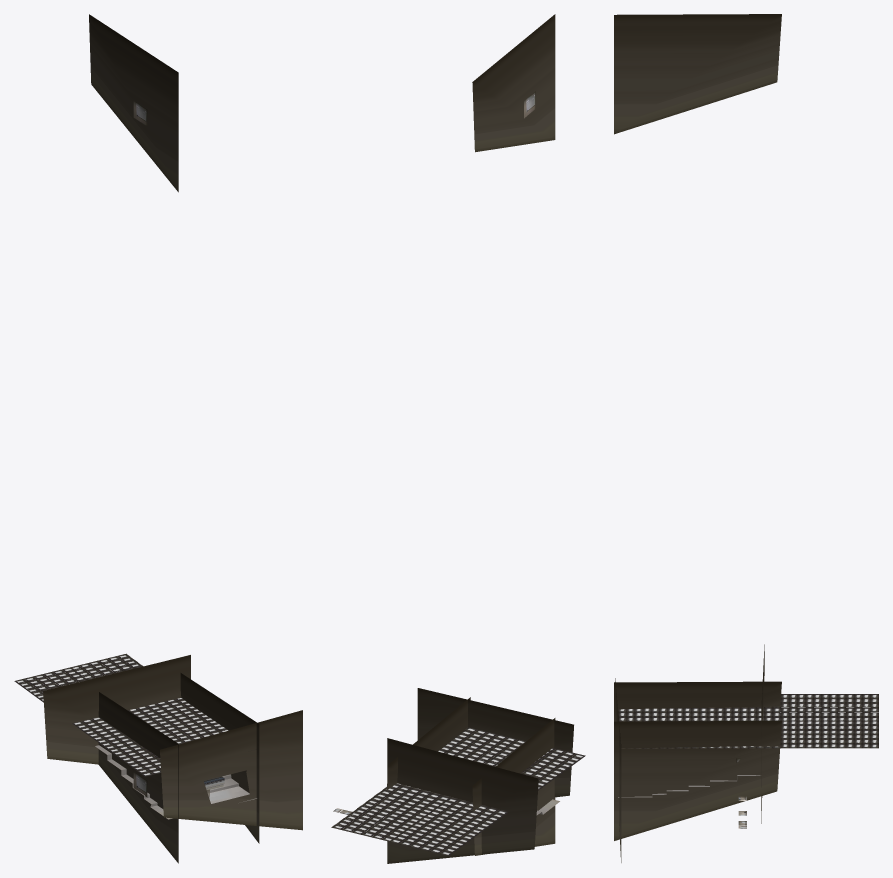
The model's file is home.glb.
The picture shows the model from 3 angles, left to right: view 1: azimuth 30°, elevation 25°; view 2: azimuth 150°, elevation 25°; view 3: azimuth 270°, elevation 25°; orthographic projection. The views are drawn at different scales.
Visible parts, largest first — view 1: 20260413_161915.008, 20260413_161915.006, 20260413_161915.007, 20260413_161936, 20260413_161915.005, 20260413_161915.004, 20260413_163344; view 2: 20260413_161936, 20260413_161915.007, 20260413_161915.006, 20260413_161915.008, 20260413_161915.005, 20260413_161915.004; view 3: 20260413_161915.006, 20260413_161915.004, 20260413_161936, 20260413_161915.005.
Boxes of the visible parts, x1,y1,x2,y2 form: 20260413_161915.008: [160, 710, 302, 830]; 20260413_161915.006: [89, 14, 178, 192]; 20260413_161915.007: [43, 655, 190, 764]; 20260413_161936: [14, 653, 256, 776]; 20260413_161915.005: [98, 692, 178, 863]; 20260413_161915.004: [180, 673, 259, 843]; 20260413_163344: [95, 745, 256, 819]; 20260413_161936: [331, 727, 585, 855]; 20260413_161915.007: [387, 738, 538, 863]; 20260413_161915.006: [472, 14, 555, 152]; 20260413_161915.008: [417, 688, 573, 797]; 20260413_161915.005: [472, 718, 555, 855]; 20260413_161915.004: [387, 697, 470, 821]; 20260413_161915.006: [614, 14, 781, 134]; 20260413_161915.004: [614, 720, 781, 840]; 20260413_161936: [618, 694, 878, 748]; 20260413_161915.005: [614, 681, 781, 721].
Size of the model in its own units: 28.82 by 106 by 32.34.
16 materials, 16 textured.
